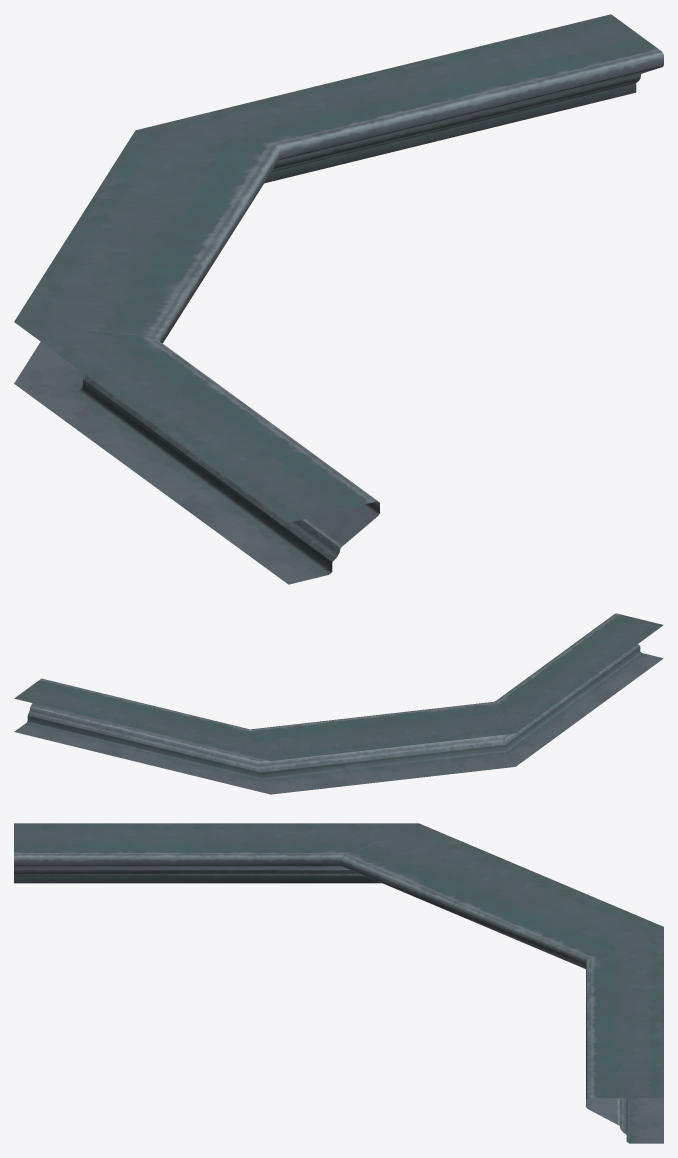
File: TrimV2_Beveled.fbx
3 renders of one model, top to bottom at view 1: azimuth 30°, elevation 25°; view 2: azimuth 150°, elevation 25°; view 3: azimuth 270°, elevation 25°, orthographic. The views are drawn at different scales.
Parts seen in each view (by area): view 1: TrimV2_Beveled; view 2: TrimV2_Beveled; view 3: TrimV2_Beveled.
Part boxes in pixels (x1,y1,x2,y2): TrimV2_Beveled: (14,14,663,584); TrimV2_Beveled: (14,613,663,794); TrimV2_Beveled: (14,823,663,1143).
Bounding box in the file's own units: 500 × 38.65 × 500.
Materials: 1 (1 with a texture image).
